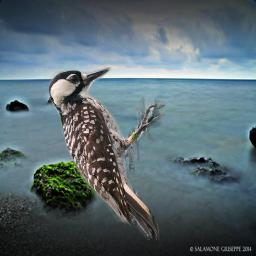Woodpecker: (48, 67, 165, 240)
